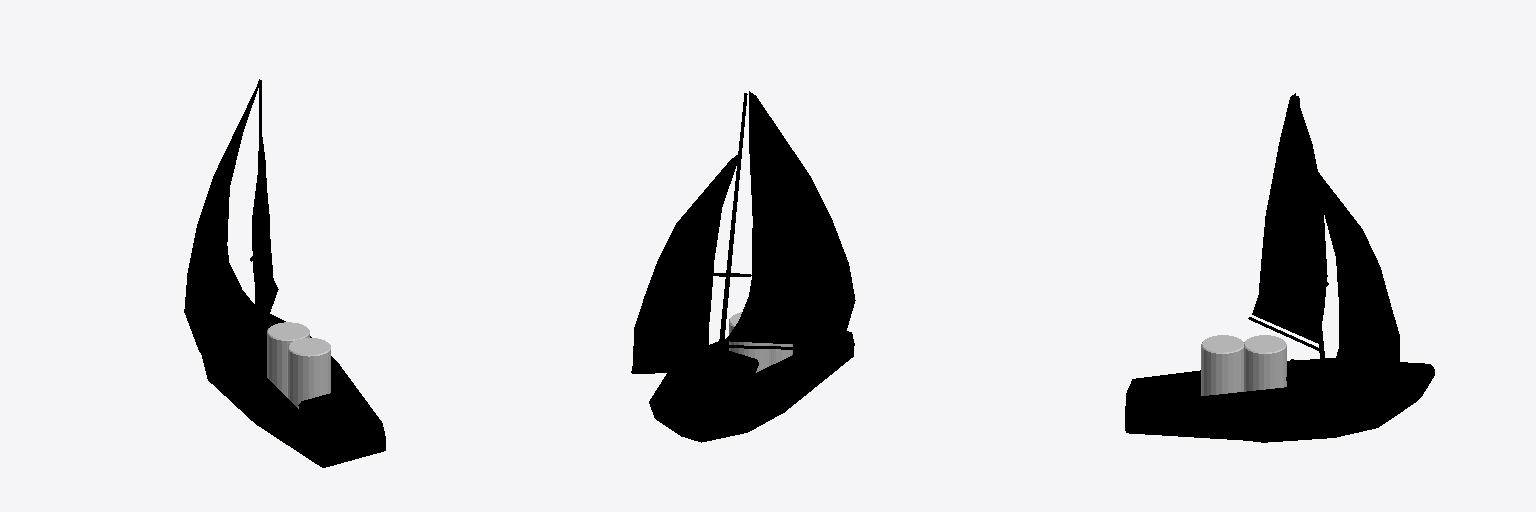
The model's file is boat.obj.
The picture shows the model from 3 angles: view 1: azimuth 30°, elevation 25°; view 2: azimuth 150°, elevation 25°; view 3: azimuth 270°, elevation 25°; orthographic projection.
Parts seen in each view (by area): view 1: Boat, barrel, barrel.001; view 2: Boat, barrel.001; view 3: Boat, barrel, barrel.001.
Boxes of the visible parts, box(x1,y1,x2,y2) form: Boat: box(184, 79, 385, 467); barrel: box(288, 338, 330, 408); barrel.001: box(267, 322, 309, 397); Boat: box(631, 91, 855, 442); barrel.001: box(729, 312, 771, 372); Boat: box(1125, 93, 1434, 442); barrel: box(1201, 335, 1243, 395); barrel.001: box(1244, 335, 1286, 391).
Size of the model in its own units: 17.43 by 35.15 by 29.43.